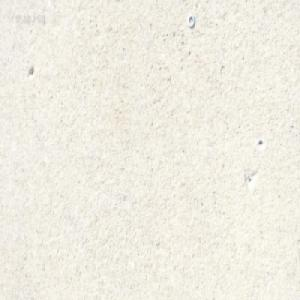Washer: (187, 14, 194, 29)
